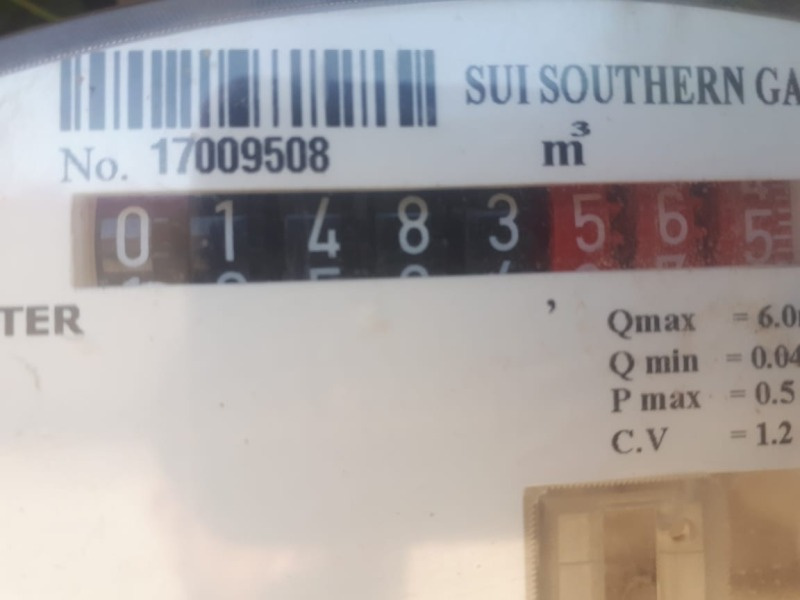ssgc: (68, 183, 798, 284)
